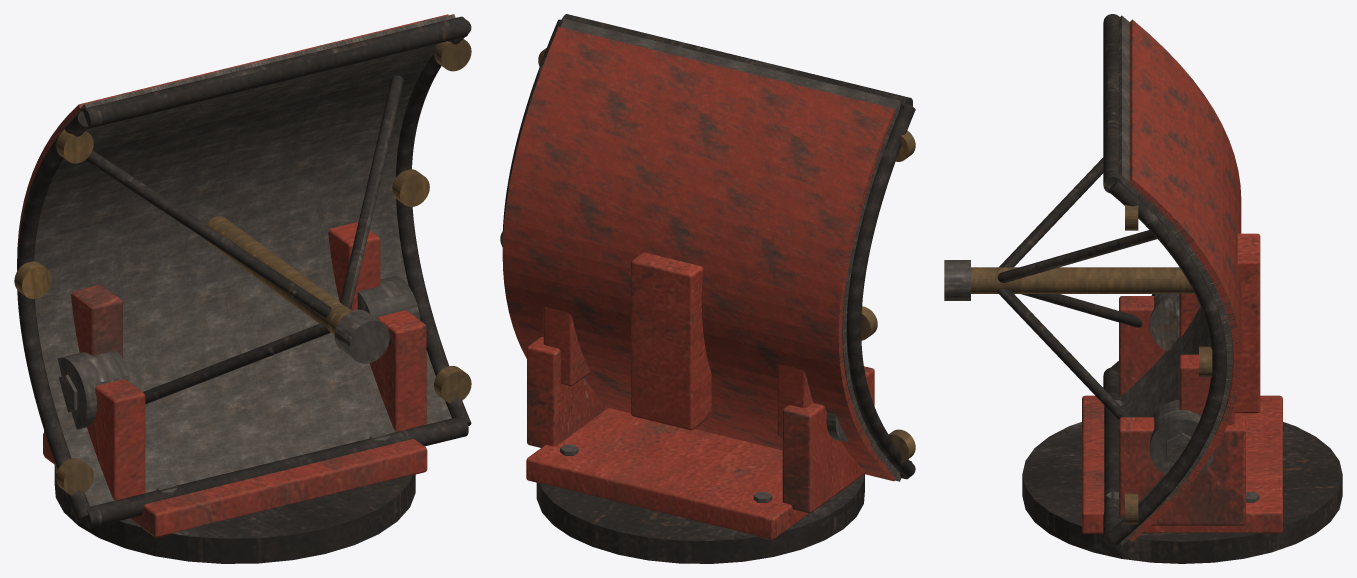
File: energy_dish_v03.glb
3 views of the same model, side by side, from view 1: azimuth 30°, elevation 25°; view 2: azimuth 150°, elevation 25°; view 3: azimuth 270°, elevation 25° (orthographic). The views are drawn at different scales.
Parts seen in each view (by area): view 1: CURVED_REFLECTOR, ROTARY_ADAPTER, PEDESTAL_FOOT, STRAIGHT_RIM.001, CONTINUOUS_SIDE_RAIL_-1, YOKE_-1, STRAIGHT_RIM, YOKE_1, CONTINUOUS_SIDE_RAIL_1, FOCUS_SUPPORT.001, CENTRAL_FEED, FOCUS_SUPPORT.003 (+13 smaller); view 2: RED_REFLECTOR_BACKING, PEDESTAL_FOOT, ROTARY_ADAPTER, REAR_SPINE, YOKE_-1, CONTINUOUS_SIDE_RAIL_-1, CURVED_REFLECTOR, YOKE_1, STRAIGHT_RIM.001, REFLECTOR_PIVOT_CHEEK_1, REFLECTOR_PIVOT_CHEEK_-1, CONTINUOUS_SIDE_RAIL_1 (+1 smaller); view 3: RED_REFLECTOR_BACKING, ROTARY_ADAPTER, PEDESTAL_FOOT, YOKE_1, CURVED_REFLECTOR, CONTINUOUS_SIDE_RAIL_1, CENTRAL_FEED, REAR_SPINE, YOKE_-1, STRAIGHT_RIM.001, STRAIGHT_RIM, FOCUS_SUPPORT.002 (+8 smaller).
Boxes of the visible parts, x1,y1,x2,y2 form: CURVED_REFLECTOR: (34, 14, 455, 506); ROTARY_ADAPTER: (54, 465, 415, 563); PEDESTAL_FOOT: (43, 433, 427, 537); STRAIGHT_RIM.001: (81, 16, 468, 128); CONTINUOUS_SIDE_RAIL_-1: (17, 111, 89, 522); YOKE_-1: (44, 379, 145, 500); STRAIGHT_RIM: (82, 417, 468, 528); YOKE_1: (370, 310, 426, 431); CONTINUOUS_SIDE_RAIL_1: (396, 19, 471, 426); FOCUS_SUPPORT.001: (85, 150, 331, 317); CENTRAL_FEED: (205, 216, 351, 334); FOCUS_SUPPORT.003: (340, 75, 403, 309); RED_REFLECTOR_BACKING: (502, 27, 895, 481); PEDESTAL_FOOT: (526, 408, 808, 539); ROTARY_ADAPTER: (536, 474, 864, 563); REAR_SPINE: (631, 252, 711, 430); YOKE_-1: (782, 366, 874, 513); CONTINUOUS_SIDE_RAIL_-1: (846, 104, 915, 477); CURVED_REFLECTOR: (560, 18, 901, 481); YOKE_1: (527, 336, 607, 447); STRAIGHT_RIM.001: (560, 14, 912, 109); REFLECTOR_PIVOT_CHEEK_1: (543, 307, 590, 386); REFLECTOR_PIVOT_CHEEK_-1: (777, 364, 813, 437); CONTINUOUS_SIDE_RAIL_1: (502, 19, 561, 245); RED_REFLECTOR_BACKING: (1128, 19, 1241, 541); ROTARY_ADAPTER: (1022, 422, 1342, 563); PEDESTAL_FOOT: (1082, 395, 1282, 533); YOKE_1: (1119, 417, 1245, 525); CURVED_REFLECTOR: (1119, 15, 1232, 545); CONTINUOUS_SIDE_RAIL_1: (1107, 180, 1226, 544); CENTRAL_FEED: (971, 267, 1194, 293); REAR_SPINE: (1234, 233, 1260, 413); YOKE_-1: (1119, 296, 1165, 396); STRAIGHT_RIM.001: (1103, 14, 1121, 193); STRAIGHT_RIM: (1103, 367, 1120, 547); FOCUS_SUPPORT.002: (997, 289, 1130, 419).
Size of the model in its own units: 2.03 by 2.16 by 1.94.
Materials: 4 (4 with a texture image).
